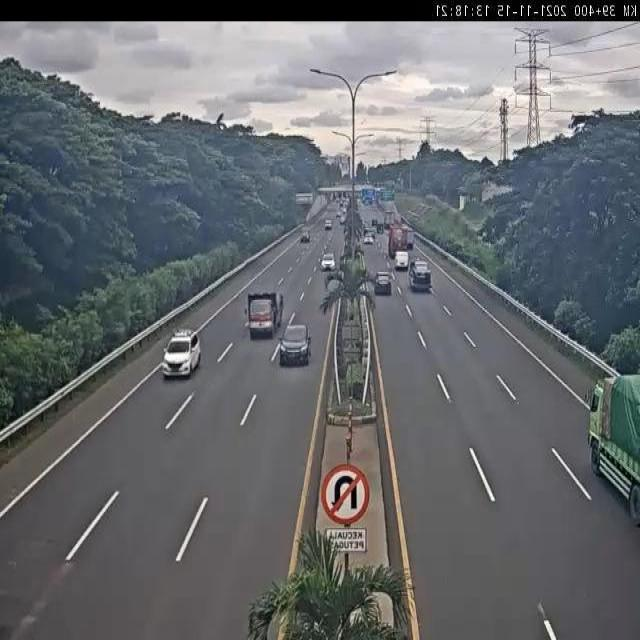Car: (163, 329, 201, 380), (277, 324, 311, 366), (373, 270, 393, 294), (320, 252, 336, 270)
Truck: (582, 372, 640, 530), (242, 288, 284, 339), (407, 260, 433, 294)
